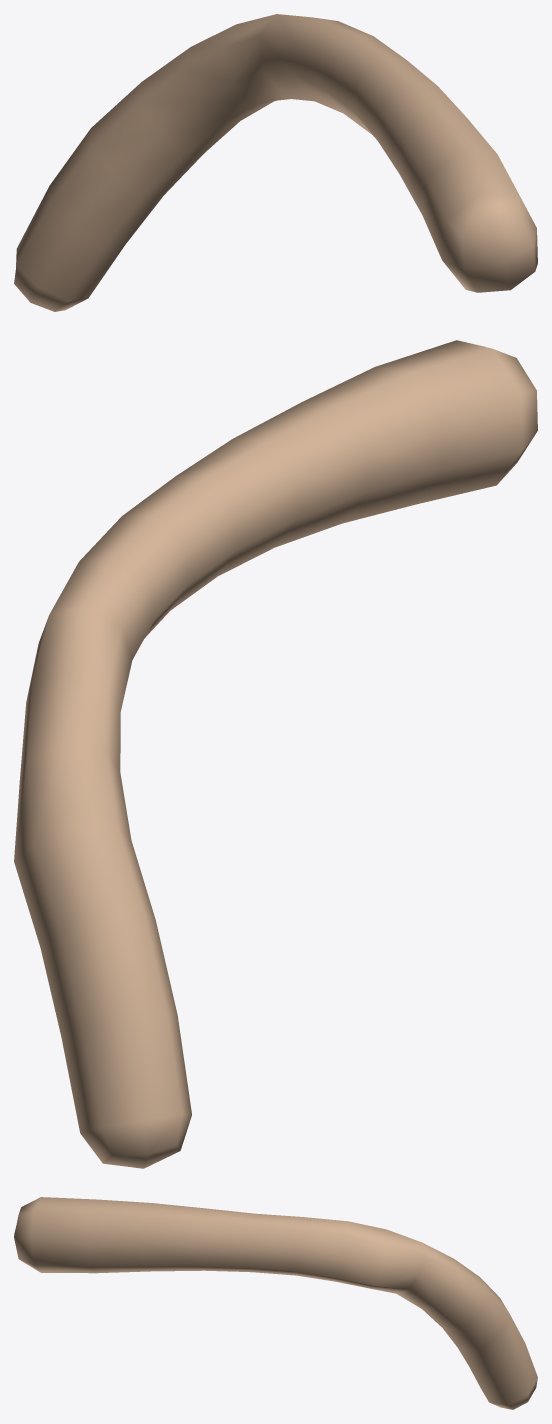
The picture shows the model from 3 angles, top to bottom: view 1: azimuth 30°, elevation 25°; view 2: azimuth 150°, elevation 25°; view 3: azimuth 270°, elevation 25°; orthographic projection. The views are drawn at different scales.
Visible parts, largest first — view 1: 右侧趾长屈肌腱鞘; view 2: 右侧趾长屈肌腱鞘; view 3: 右侧趾长屈肌腱鞘.
Boxes of the visible parts, bbox=[...] form: 右侧趾长屈肌腱鞘: bbox=[14, 14, 537, 311]; 右侧趾长屈肌腱鞘: bbox=[14, 340, 537, 1168]; 右侧趾长屈肌腱鞘: bbox=[14, 1197, 537, 1409].
Bounding box in the file's own units: 0.031 × 0.0495 × 0.098.
